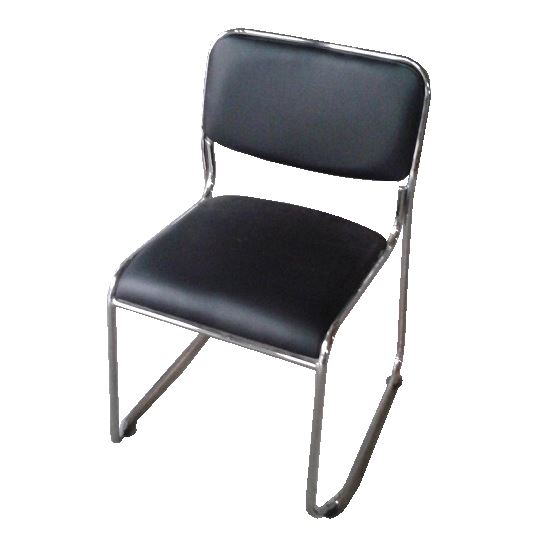chairs: (96, 24, 434, 525)
